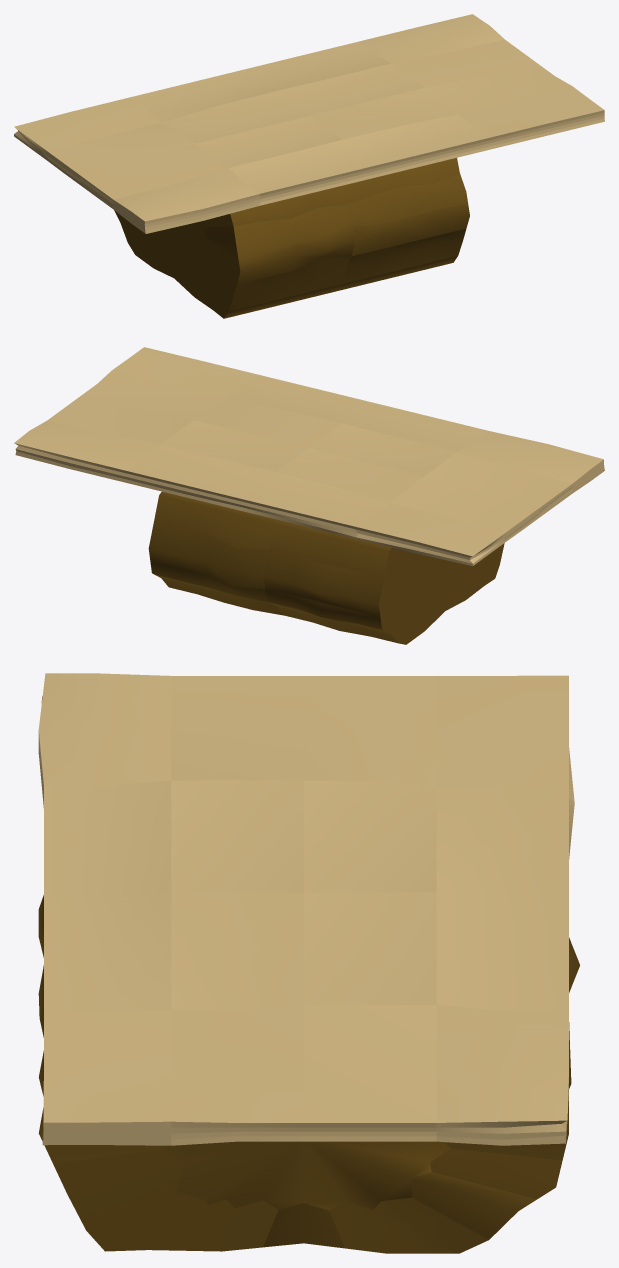
The model's file is prop_combining.fbx.
3 renders of one model, top to bottom at view 1: azimuth 30°, elevation 25°; view 2: azimuth 150°, elevation 25°; view 3: azimuth 270°, elevation 25°, orthographic. The views are drawn at different scales.
Visible parts, largest first — view 1: combining_top_LOD0, combining_base_LOD0; view 2: combining_top_LOD0, combining_base_LOD0; view 3: combining_top_LOD0, combining_base_LOD0.
Boxes of the visible parts, x1=… form: combining_top_LOD0: x1=14, y1=14, x2=604, y2=233; combining_base_LOD0: x1=114, y1=158, x2=469, y2=318; combining_top_LOD0: x1=14, y1=347, x2=604, y2=565; combining_base_LOD0: x1=148, y1=491, x2=504, y2=644; combining_top_LOD0: x1=38, y1=673, x2=574, y2=1145; combining_base_LOD0: x1=38, y1=895, x2=579, y2=1253.
Size of what is drawn, in the model's own units: 400 by 112 by 204.
